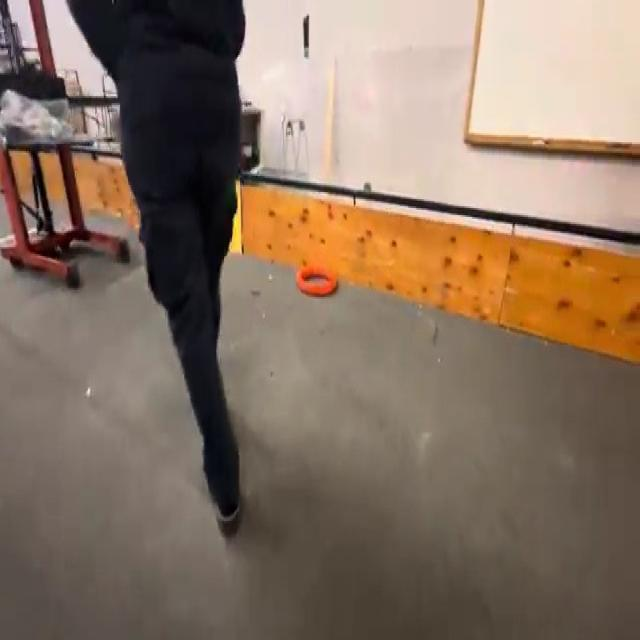note: (295, 264, 338, 297)
